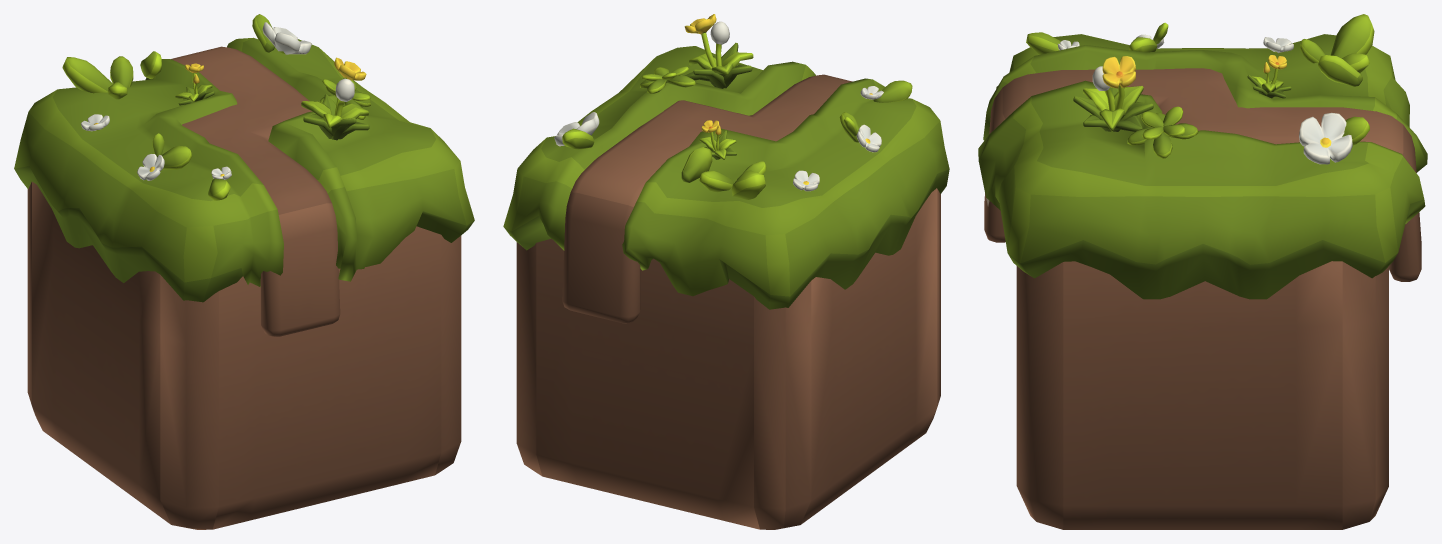
File: Spring6.fbx
The picture shows the model from 3 angles, left to right: view 1: azimuth 30°, elevation 25°; view 2: azimuth 150°, elevation 25°; view 3: azimuth 270°, elevation 25°; orthographic projection. The views are drawn at different scales.
Visible parts, largest first — view 1: Spring6, Spring_Cube6.002, Spring6.001, Spring_Cube_06.002; view 2: Spring6, Spring_Cube6.002, Spring6.001, Spring_Cube_06.002; view 3: Spring6, Spring_Cube6.002, Spring_Cube_06.002, Spring6.001.
Boxes of the visible parts, x1,y1,x2,y2 form: Spring6: [27, 181, 461, 529]; Spring_Cube6.002: [14, 37, 474, 302]; Spring6.001: [170, 46, 340, 336]; Spring_Cube_06.002: [62, 14, 370, 200]; Spring6: [516, 188, 940, 529]; Spring_Cube6.002: [503, 46, 949, 309]; Spring6.001: [562, 74, 852, 323]; Spring_Cube_06.002: [554, 14, 912, 199]; Spring6: [1016, 261, 1388, 529]; Spring_Cube6.002: [978, 34, 1427, 299]; Spring_Cube_06.002: [1026, 14, 1374, 164]; Spring6.001: [984, 68, 1421, 281].
Bounding box in the file's own units: 112 × 131 × 121.
